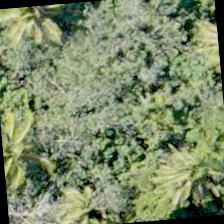Kelapa_Sawit: (142, 124, 223, 222), (0, 98, 66, 194), (0, 3, 77, 58)
